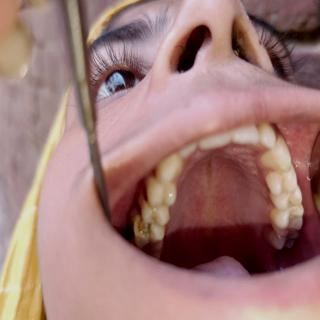cavities: (133, 217, 162, 247)
